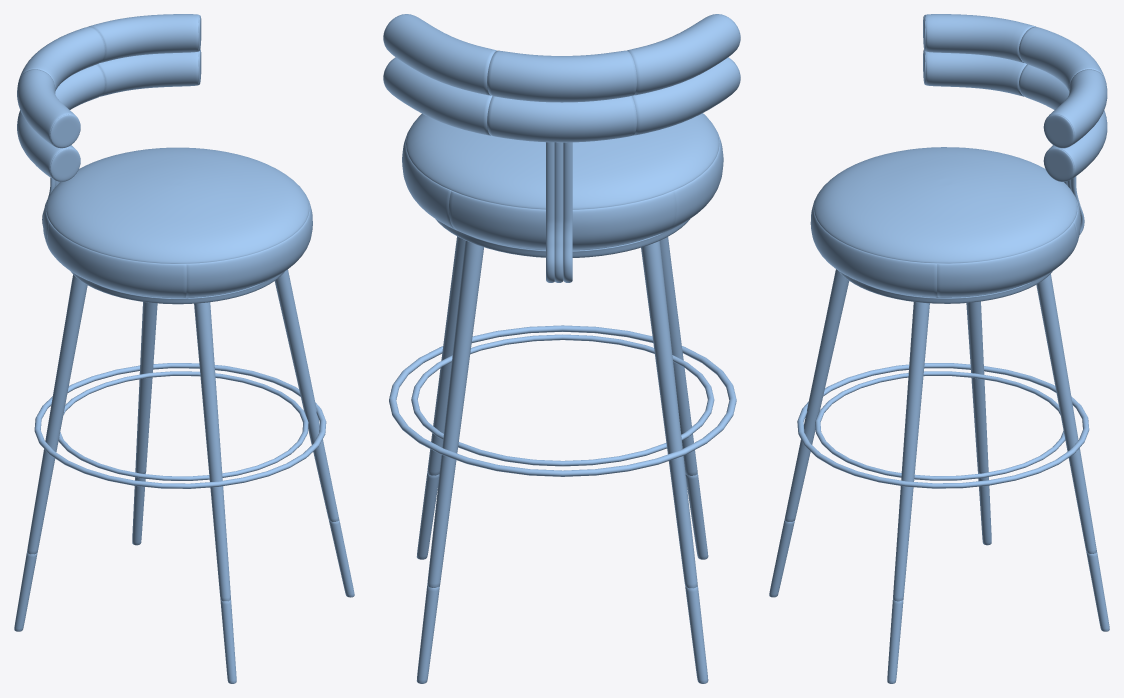
The model's file is Bar Chair.glb.
3 views of the same model, side by side, from view 1: azimuth 30°, elevation 25°; view 2: azimuth 150°, elevation 25°; view 3: azimuth 270°, elevation 25° (orthographic). The views are drawn at different scales.
Visible parts, largest first — view 1: Mezzo_Collection_Bar_chair_Betsy_003, Mezzo_Collection_Bar_chair_Betsy_001, Mezzo_Collection_Bar_chair_Betsy_002; view 2: Mezzo_Collection_Bar_chair_Betsy_003, Mezzo_Collection_Bar_chair_Betsy_002, Mezzo_Collection_Bar_chair_Betsy_001; view 3: Mezzo_Collection_Bar_chair_Betsy_003, Mezzo_Collection_Bar_chair_Betsy_001, Mezzo_Collection_Bar_chair_Betsy_002.
Boxes of the visible parts, x1,y1,x2,y2 form: Mezzo_Collection_Bar_chair_Betsy_003: (17, 14, 312, 298); Mezzo_Collection_Bar_chair_Betsy_001: (27, 269, 339, 601); Mezzo_Collection_Bar_chair_Betsy_002: (14, 178, 354, 683); Mezzo_Collection_Bar_chair_Betsy_003: (383, 14, 740, 250); Mezzo_Collection_Bar_chair_Betsy_002: (389, 142, 736, 683); Mezzo_Collection_Bar_chair_Betsy_001: (427, 236, 697, 588); Mezzo_Collection_Bar_chair_Betsy_003: (810, 14, 1107, 297); Mezzo_Collection_Bar_chair_Betsy_001: (784, 269, 1096, 601); Mezzo_Collection_Bar_chair_Betsy_002: (769, 176, 1109, 683).
Bounding box in the file's own units: 3.49 × 6.13 × 3.53.
